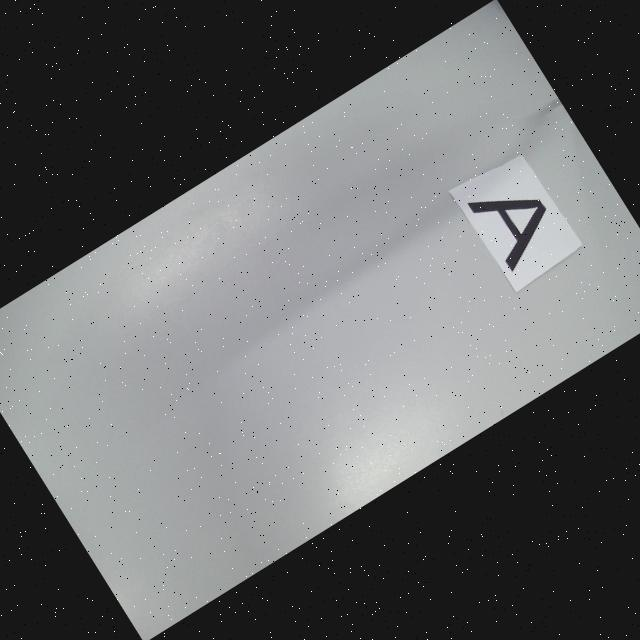FAKE: (467, 168, 566, 274)
